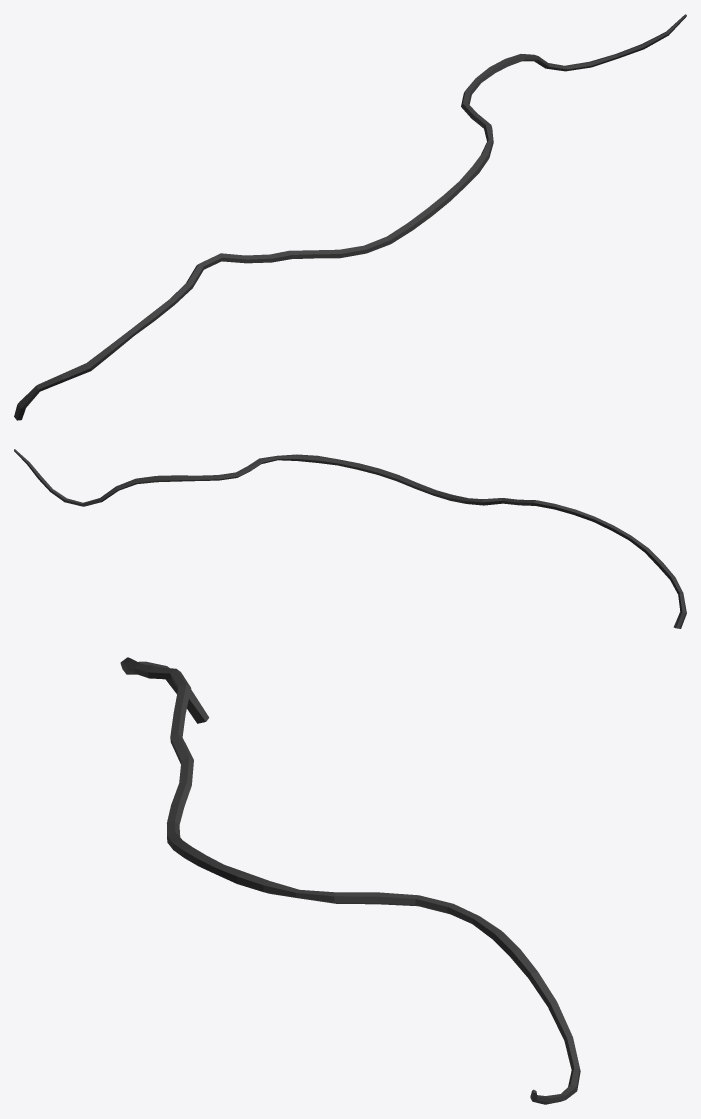
File: Ureter_L_LP.glb
3 renders of one model, top to bottom at view 1: azimuth 30°, elevation 25°; view 2: azimuth 150°, elevation 25°; view 3: azimuth 270°, elevation 25°, orthographic. The views are drawn at different scales.
Parts seen in each view (by area): view 1: Ureter_L_LP; view 2: Ureter_L_LP; view 3: Ureter_L_LP.
Part boxes in pixels (x1,y1,x2,y2): Ureter_L_LP: [14, 14, 686, 420]; Ureter_L_LP: [14, 449, 686, 628]; Ureter_L_LP: [120, 657, 580, 1104].
Size of the model in its own units: 3.02 by 0.5115 by 1.03.
1 material, 1 textured.
